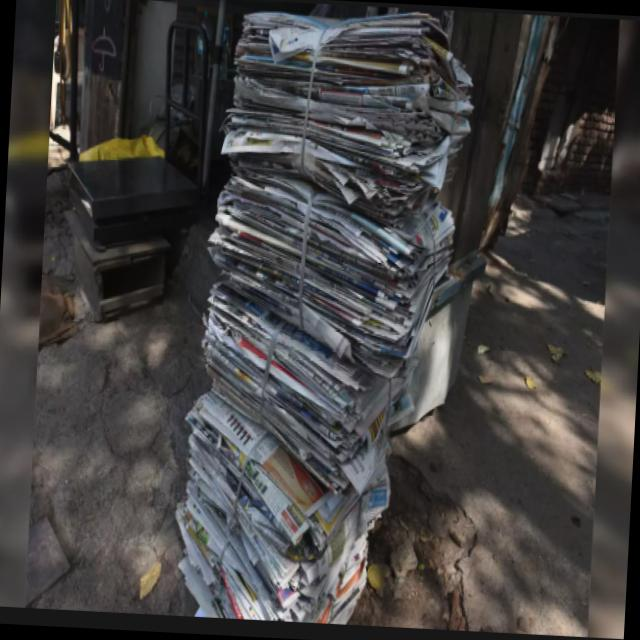Koran: (170, 0, 485, 630)
